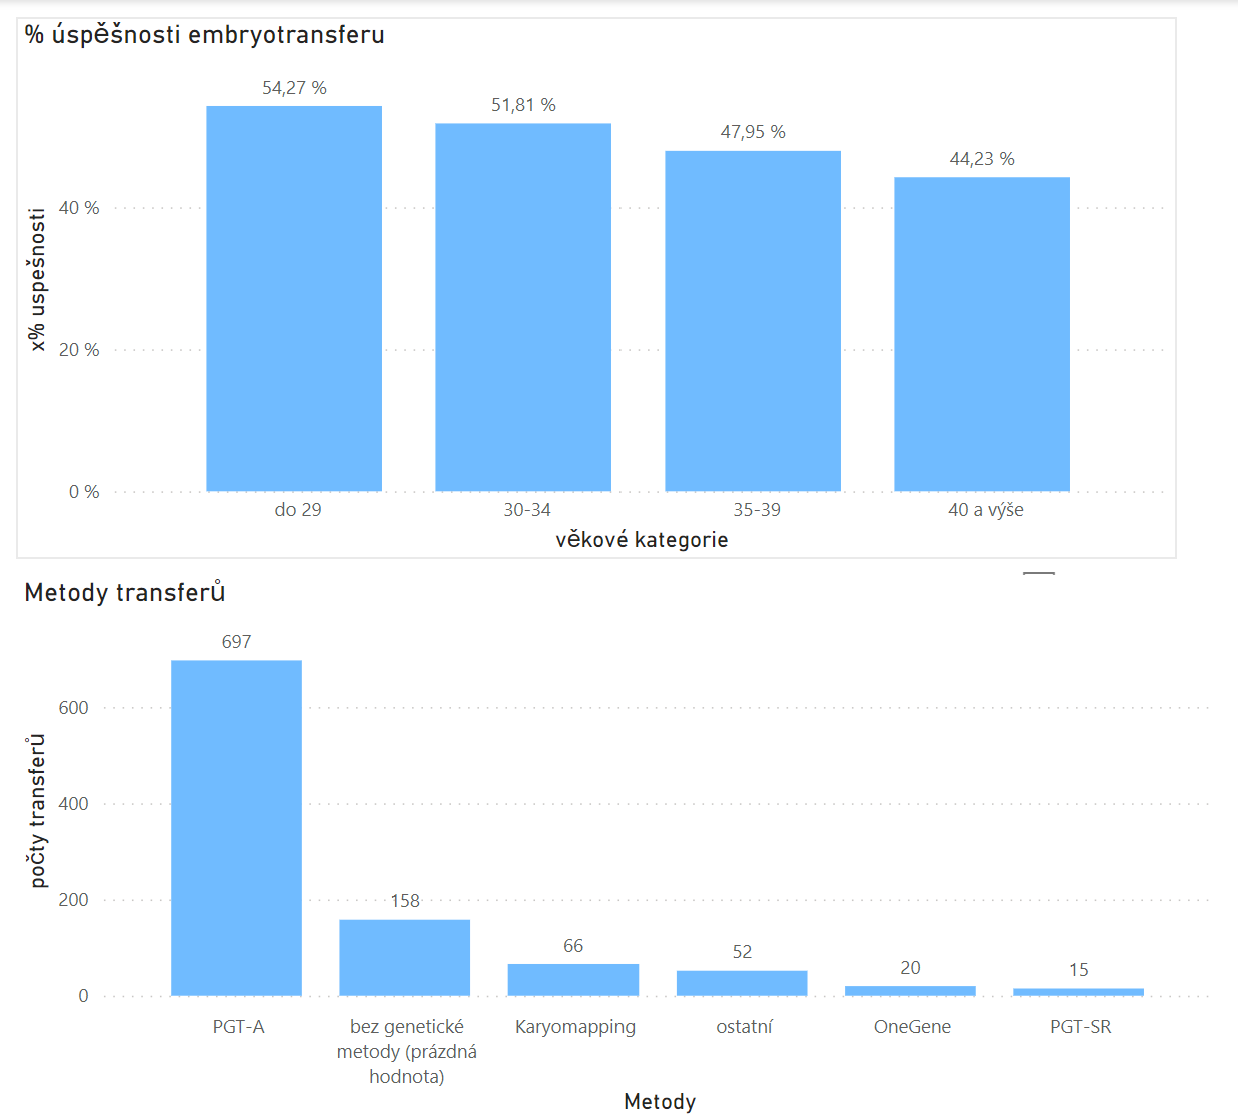

The dashboard page shown, as its layout file describes it:
{"tool":"powerbi","page":{"name":"Page 1","canvas":[1280,720],"ordinal":0},"visuals":[{"type":"clusteredColumnChart","title":"% úspěšnosti embryotransferu","fields":{"Category":["A.všechny věkové kategorie"],"Y":["Sum(A.x%)"]},"box":[16.7,11.6,745.4,348.3],"z":0},{"type":"clusteredColumnChart","title":"Metody transferů","fields":{"Category":["D.Metody"],"Y":["Sum(D.Pocet)"]},"box":[16.7,370.1,774.9,350.8],"z":1}]}

Visuals, with their boxes on the page's 1280x720 design canvas (x1, y1, x2, y2). These are canvas units, not pixel positions in the 1238x1118 screenshot, which may show the page scaled, cropped or inside an application window:
"% úspěšnosti embryotransferu" clusteredColumnChart: box=[17, 12, 762, 360]
"Metody transferů" clusteredColumnChart: box=[17, 370, 792, 721]
